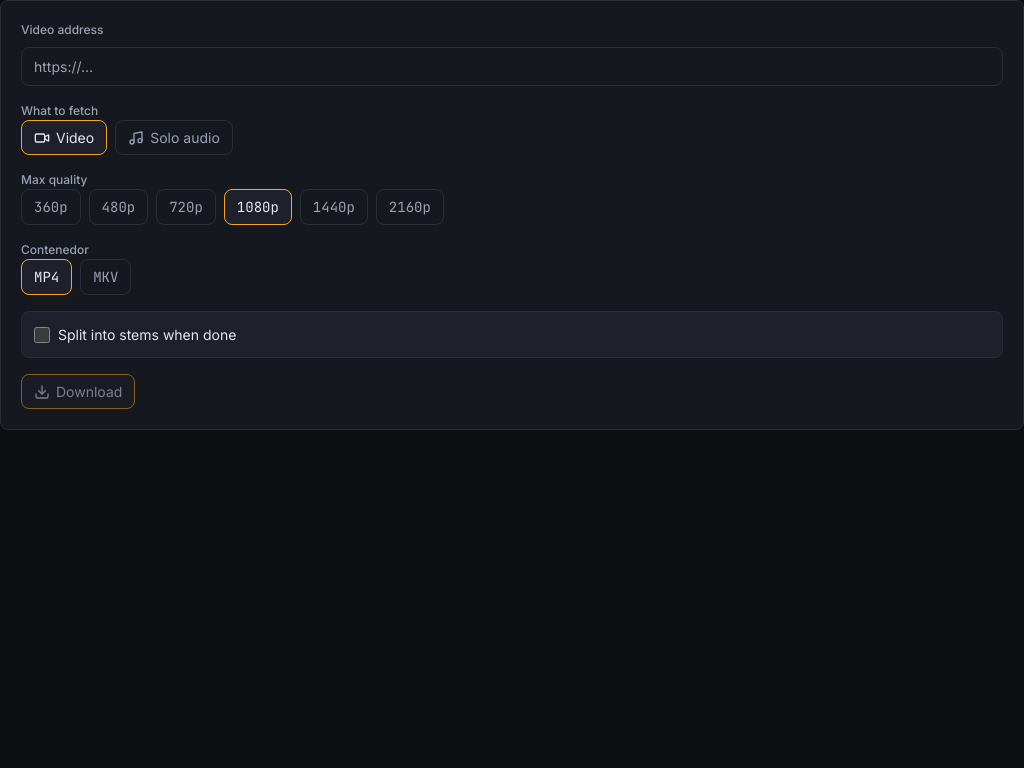
Scenario: DownloadPage › avisa que la URL es una lista y cuántos va a bajar de verdad
Type "https://youtube.com/playlist?list=x" into the field labelled "Video address" at (512, 66), box [21,47,1003,86]
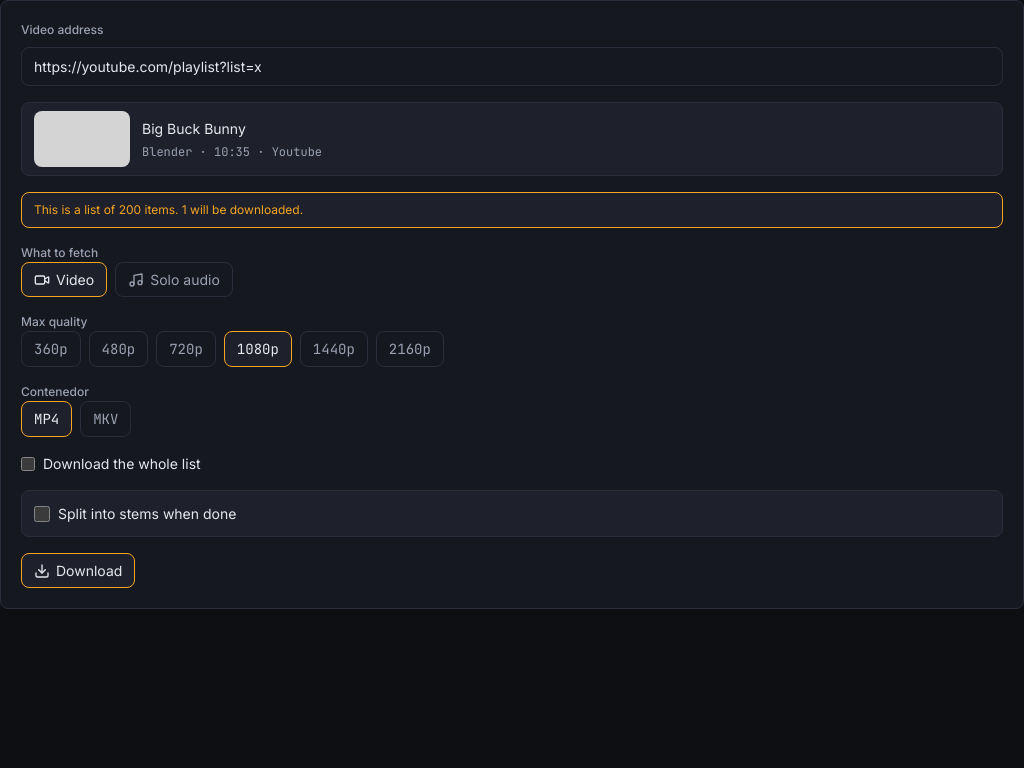
Result: the text "This is a list of 200 items. 1 will be downloaded." is shown at [21,192,1003,228]
